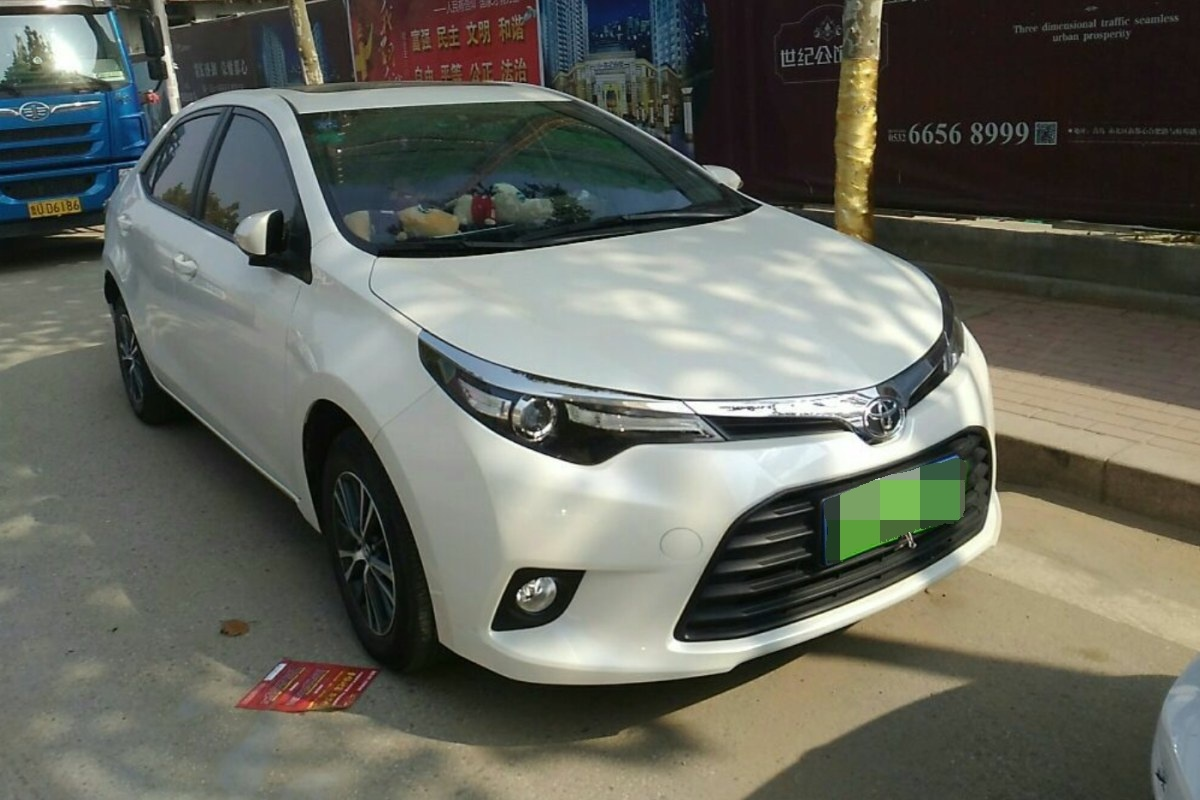family sedan: (73, 62, 1034, 661)
